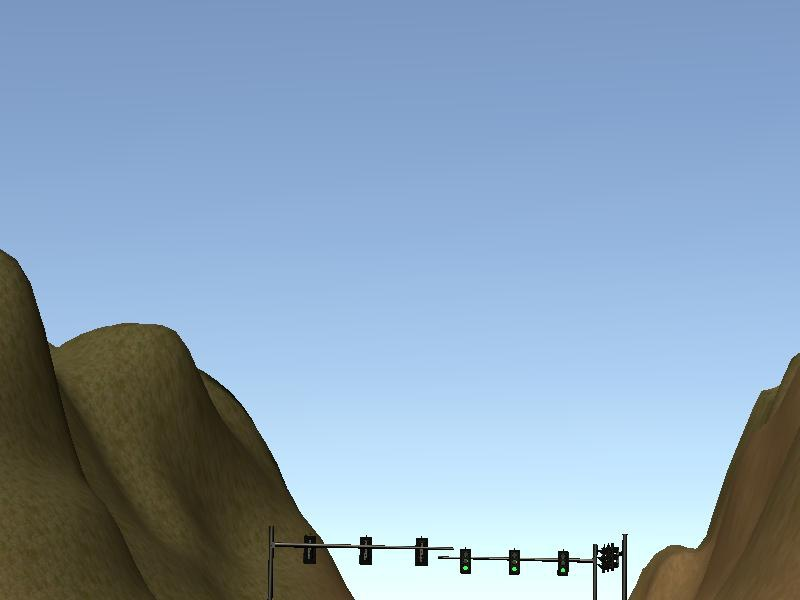green_light: (458, 547, 471, 573), (557, 551, 569, 575), (509, 551, 521, 573)
